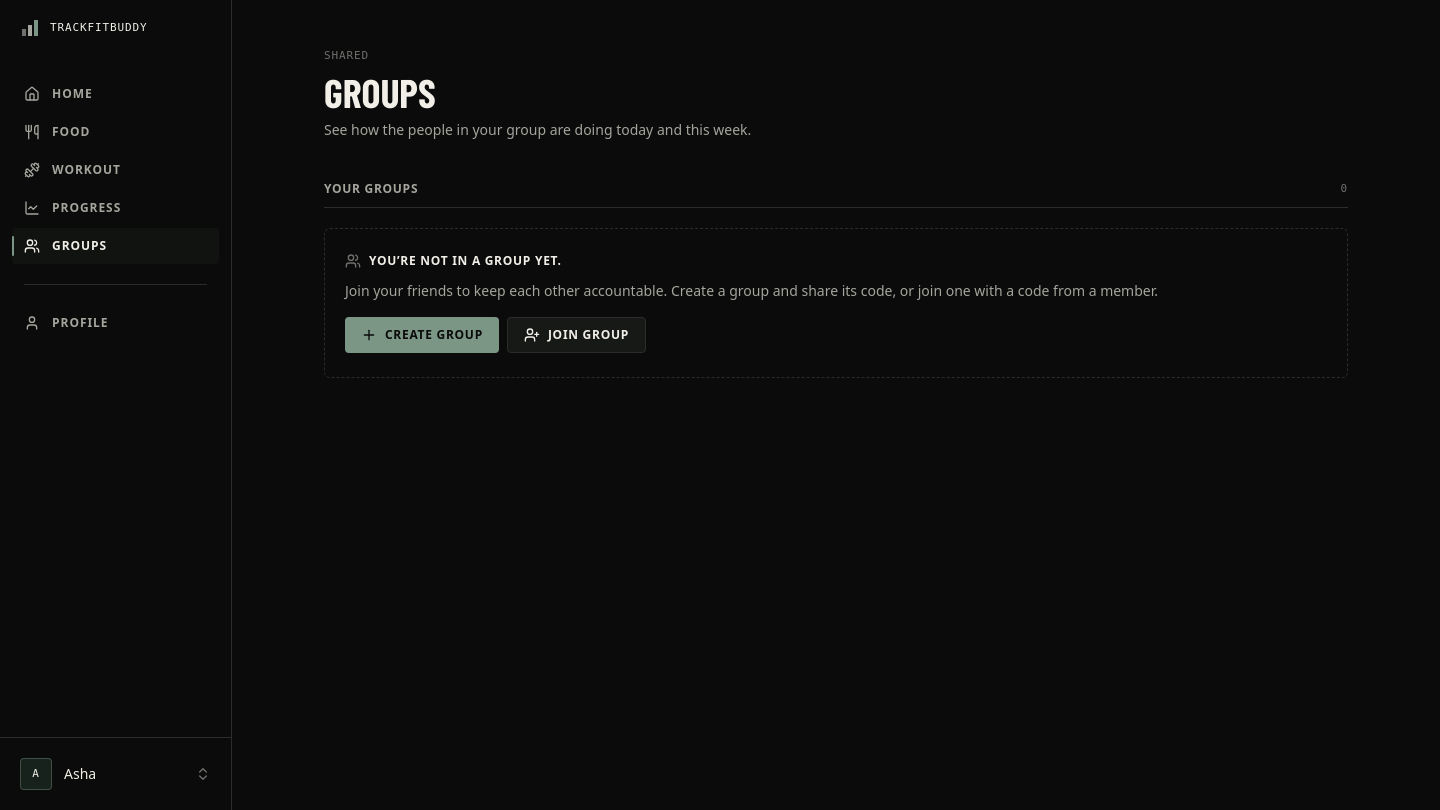
Groups page › creates a group and shows its server-generated code
Click the button "Create group" at {"x": 422, "y": 335}, box [345,317,499,353]
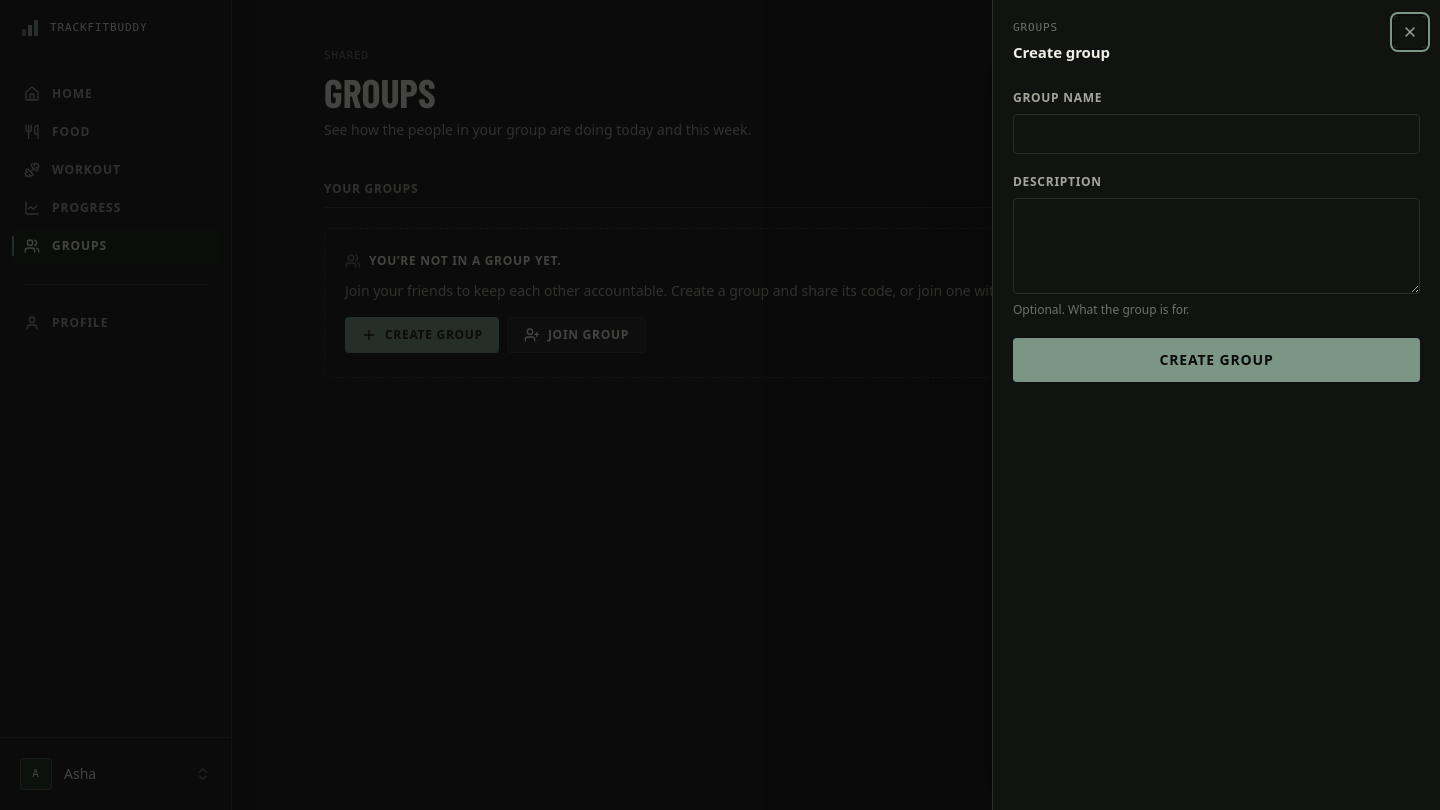
Click the button "Create group" at {"x": 1216, "y": 360}, box [1013,338,1420,382]
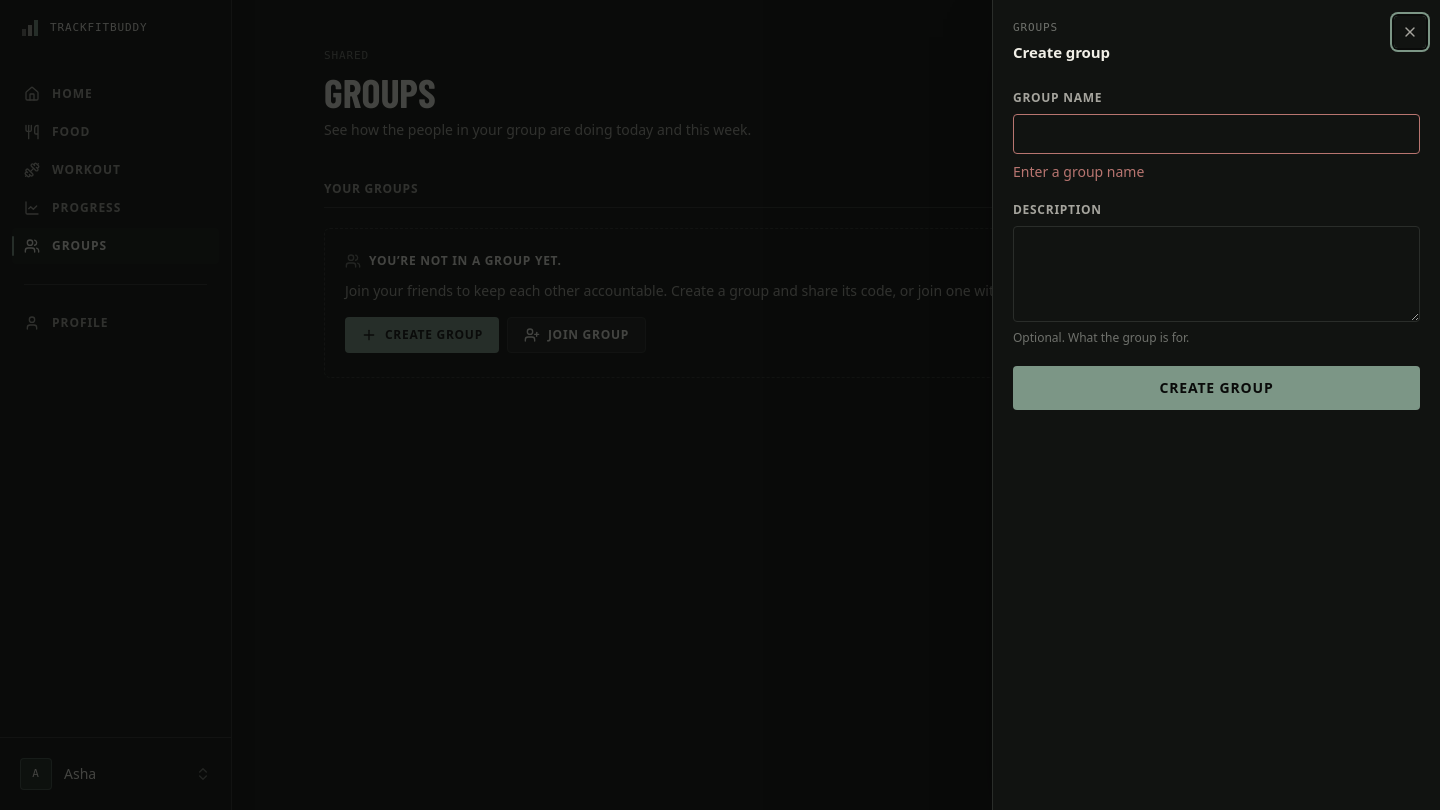
Now the text "Enter a group name" is shown, box [1013,162,1144,181]
Type "  Evening walkers " into the field labelled "Group name" at {"x": 1216, "y": 134}, box [1013,114,1420,154]
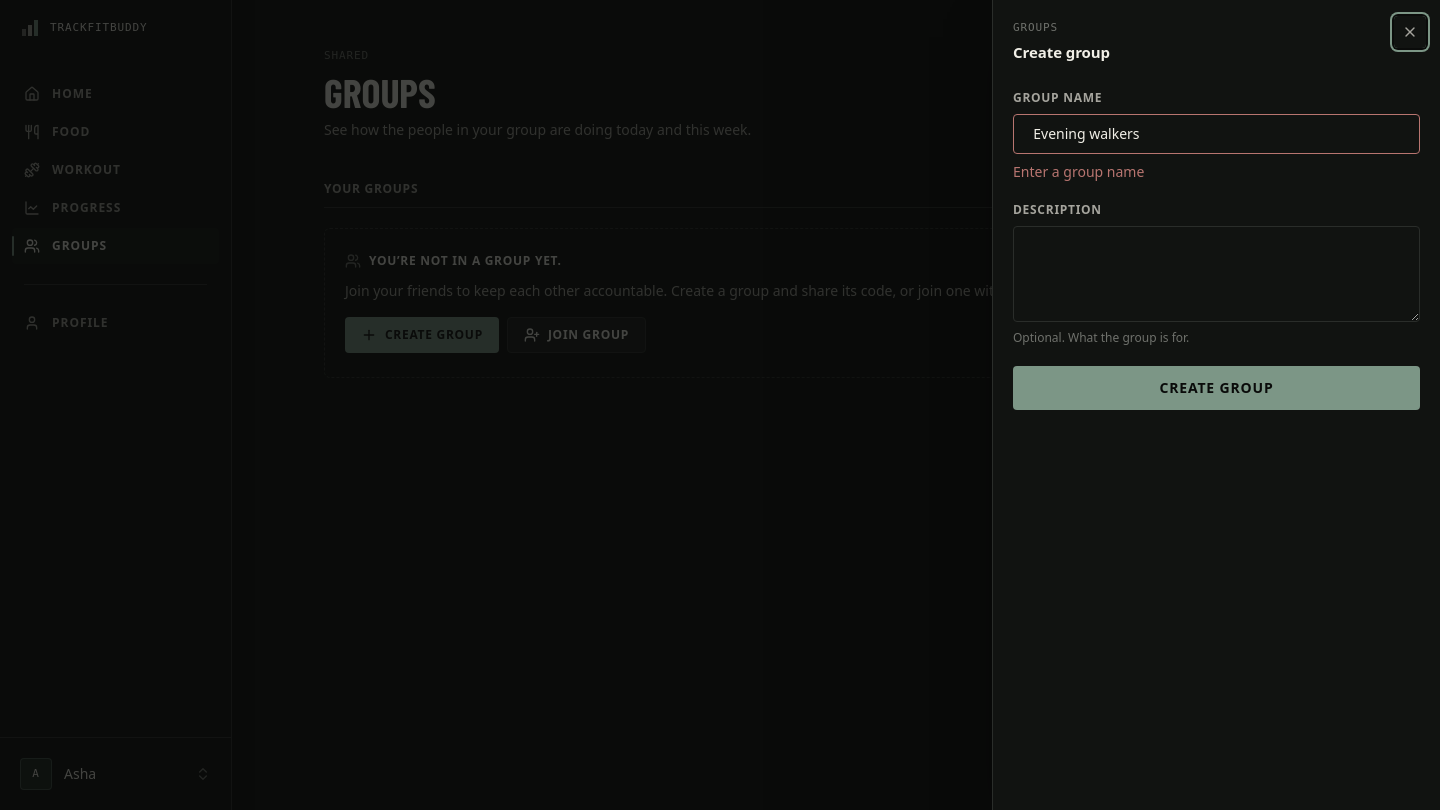
Click the button "Create group" at {"x": 1216, "y": 388}, box [1013,366,1420,410]
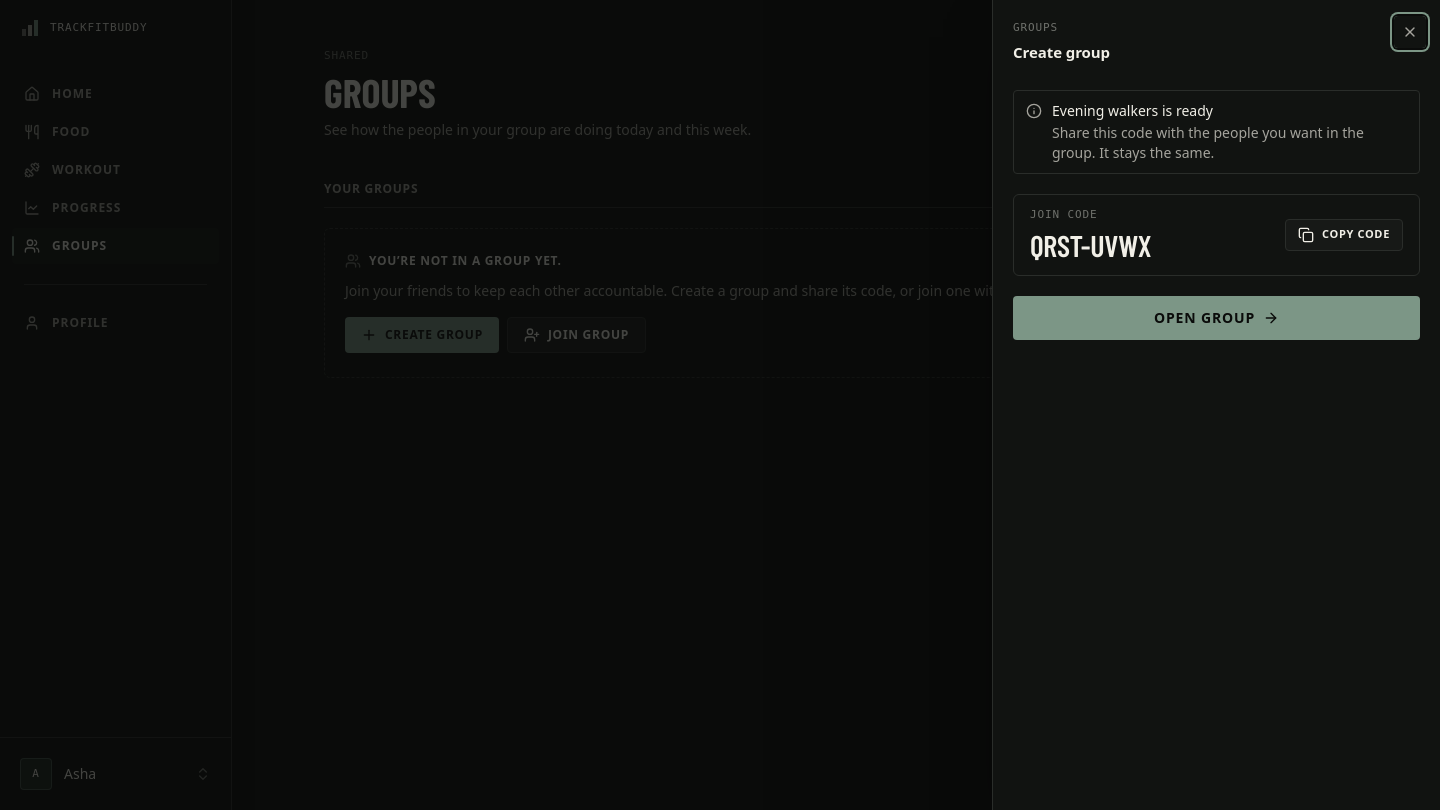
Now the text "QRST-UVWX" is shown, box [1030,227,1151,263]
Now the button "Copy code" is shown, box [1285,219,1403,251]
